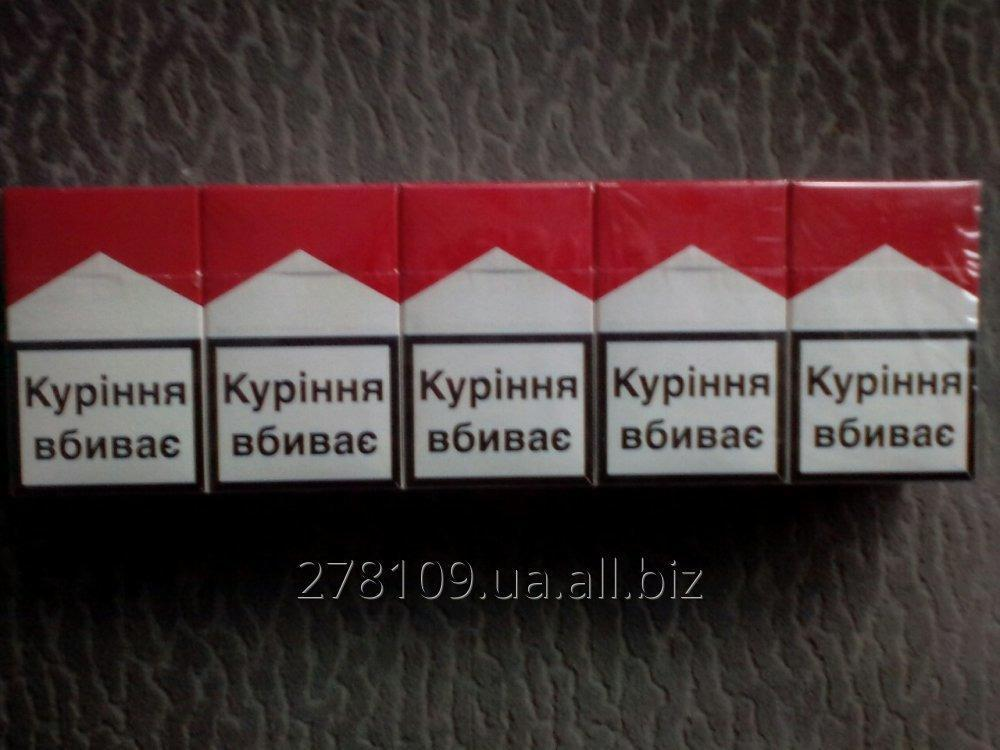marlboro_red: (6, 192, 204, 490), (594, 181, 786, 483), (202, 190, 396, 488), (405, 188, 593, 485), (790, 181, 975, 481)
